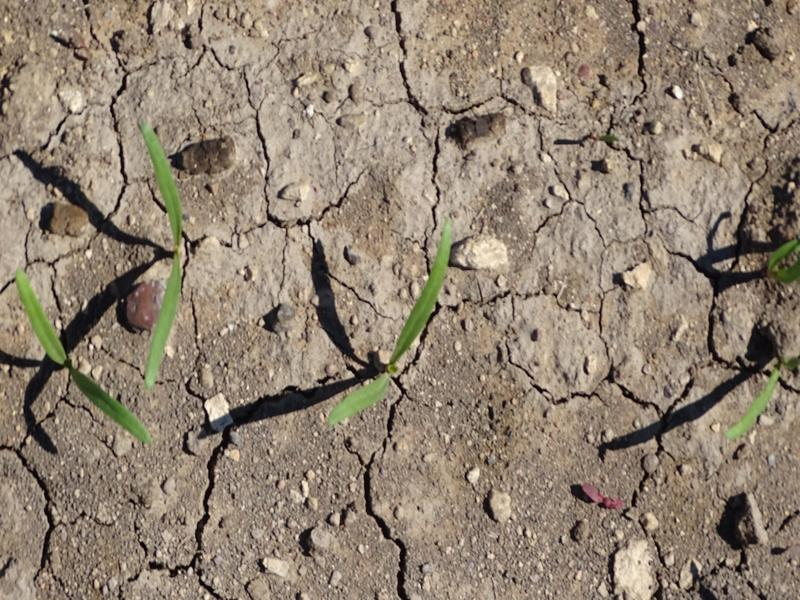Espinaca: (333, 216, 454, 425), (12, 273, 152, 444), (132, 115, 192, 381), (730, 356, 784, 440)
